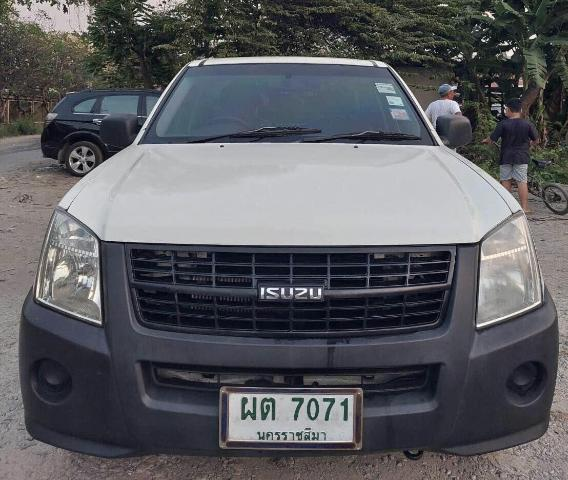pickup-truck: (13, 48, 561, 472)
